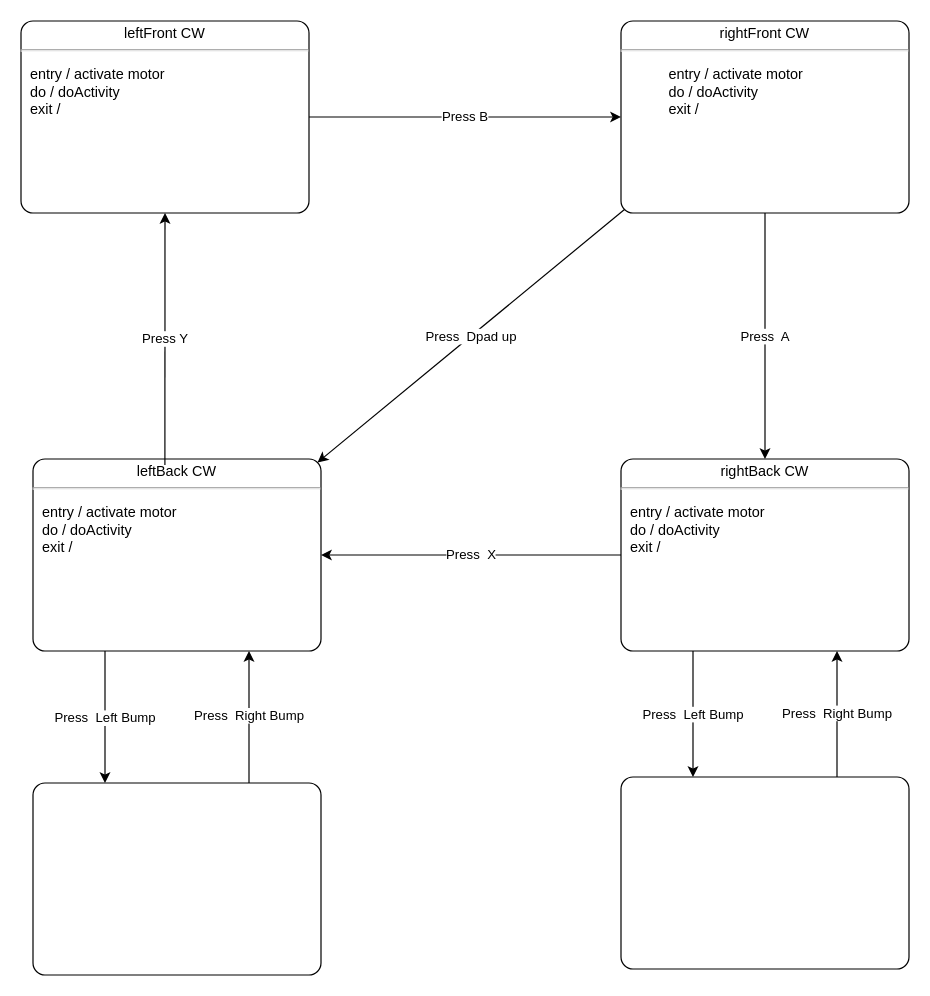
Some shapes in this 930 by 996 pixel diagram are drawn without their labels. The shapes that lost their labels are listed below. From the top down, each one's centre as x and y in pixels, then its label:
point 176,878: sparkyOn entry / activate motor do / doActivity exit /
point 764,872: thing1Talon entry / activate motor do / doActivity exit /
